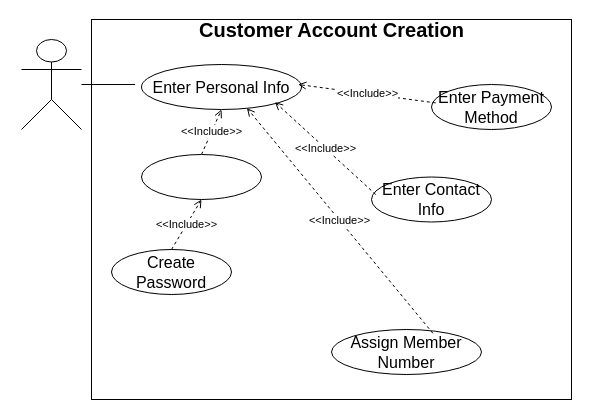
This 589x417 diagram has some shape labels left out. The centre of each missing label's shape, as x and y in pixels:
"Create Username" goes at point (201, 177).
"Customer" goes at point (51, 84).
